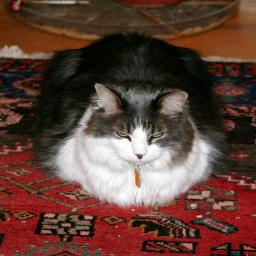catnose: (136, 152, 146, 160)
